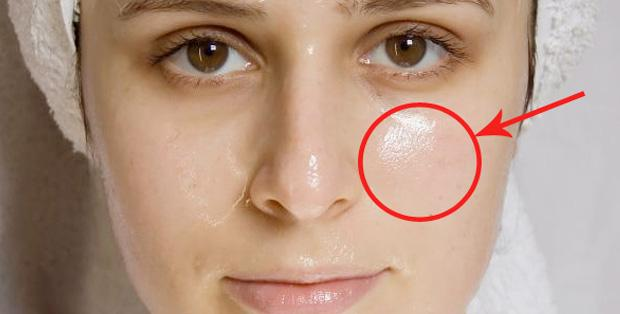Oily-Skin: (179, 141, 251, 230), (376, 109, 437, 173), (291, 240, 356, 264), (303, 150, 323, 191), (298, 41, 319, 58), (285, 183, 296, 198), (298, 39, 301, 41)
